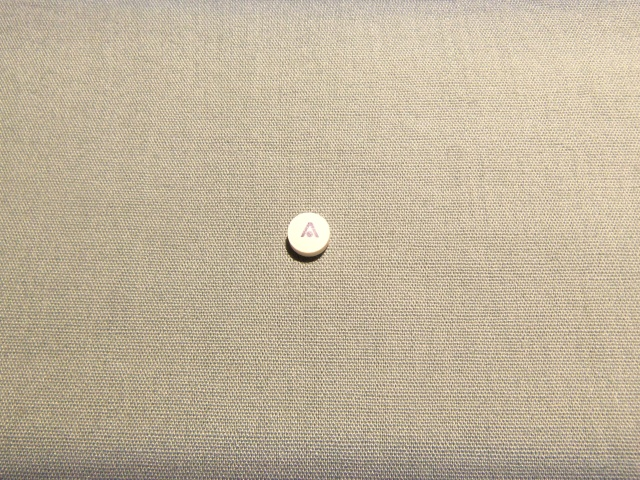A: (297, 219, 323, 243)
